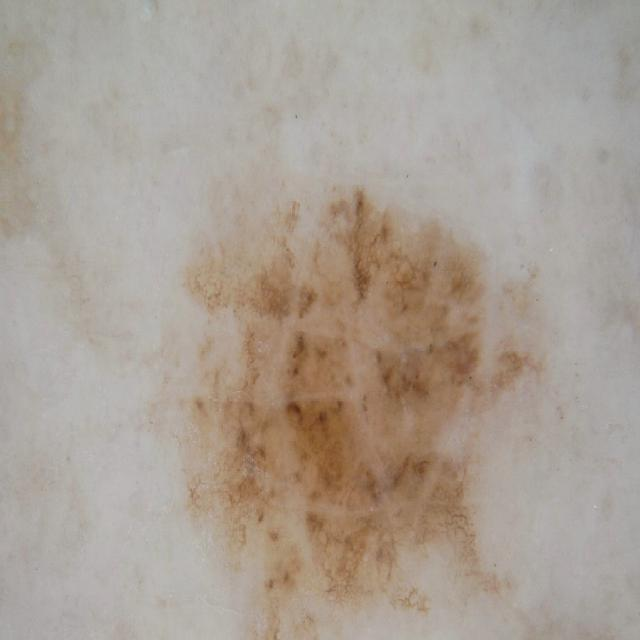Melanoma: (169, 155, 538, 640)
